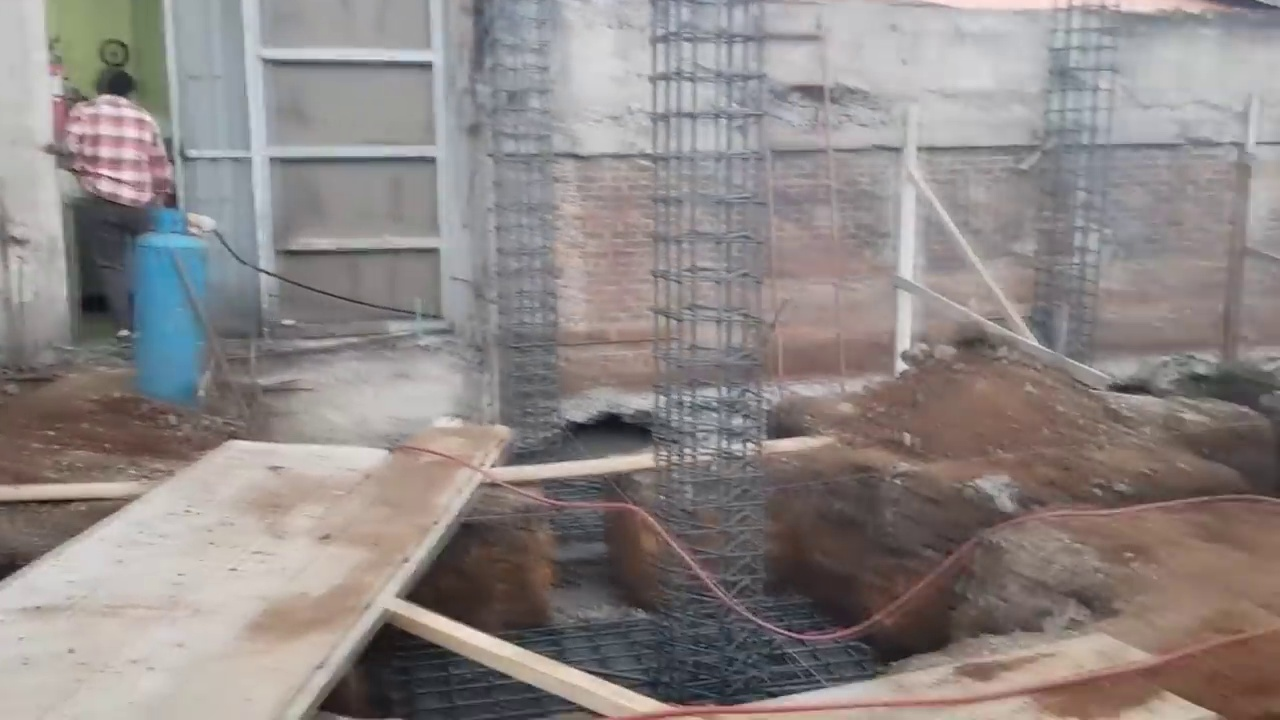helmet-off: (88, 65, 140, 107)
person: (54, 56, 176, 344)
